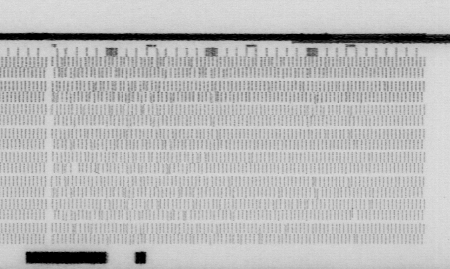Broken hole: (69, 163, 81, 174)
Oblique printing: (50, 54, 229, 106), (97, 102, 177, 153), (96, 186, 161, 221), (62, 222, 150, 247), (146, 151, 205, 174), (307, 175, 321, 201), (170, 210, 195, 221), (347, 233, 361, 247), (64, 138, 78, 151), (308, 92, 321, 106), (209, 115, 222, 129), (341, 176, 354, 189), (349, 209, 361, 221), (279, 223, 291, 235), (62, 164, 72, 175)
